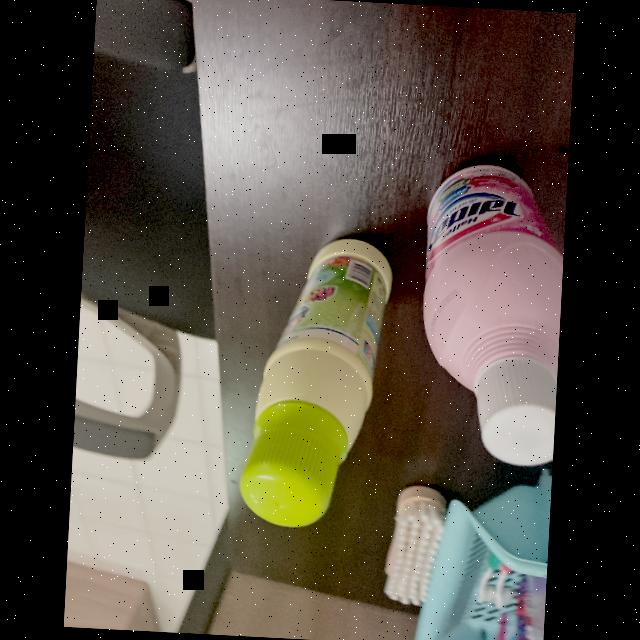chemical_plastic_bottle: (406, 148, 569, 476), (232, 228, 400, 542)
